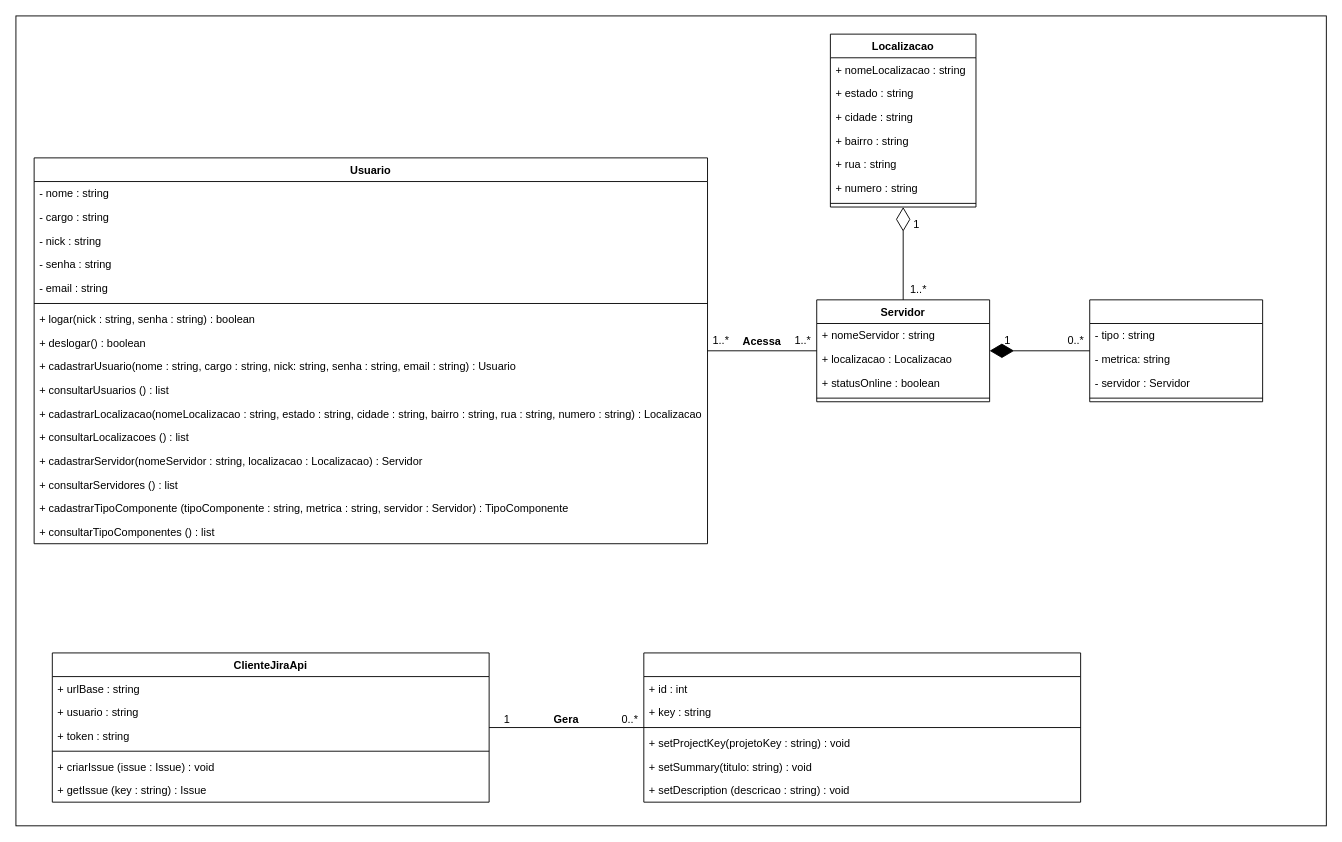
This 1342x842 diagram has some shape labels left out. The shapes that lost their labels are listed below. From the top down, each one's box as (x1, y1, x2, y2) in pixels, then its label:
(1089, 299, 1263, 402): Componente
(643, 652, 1081, 802): Issue
